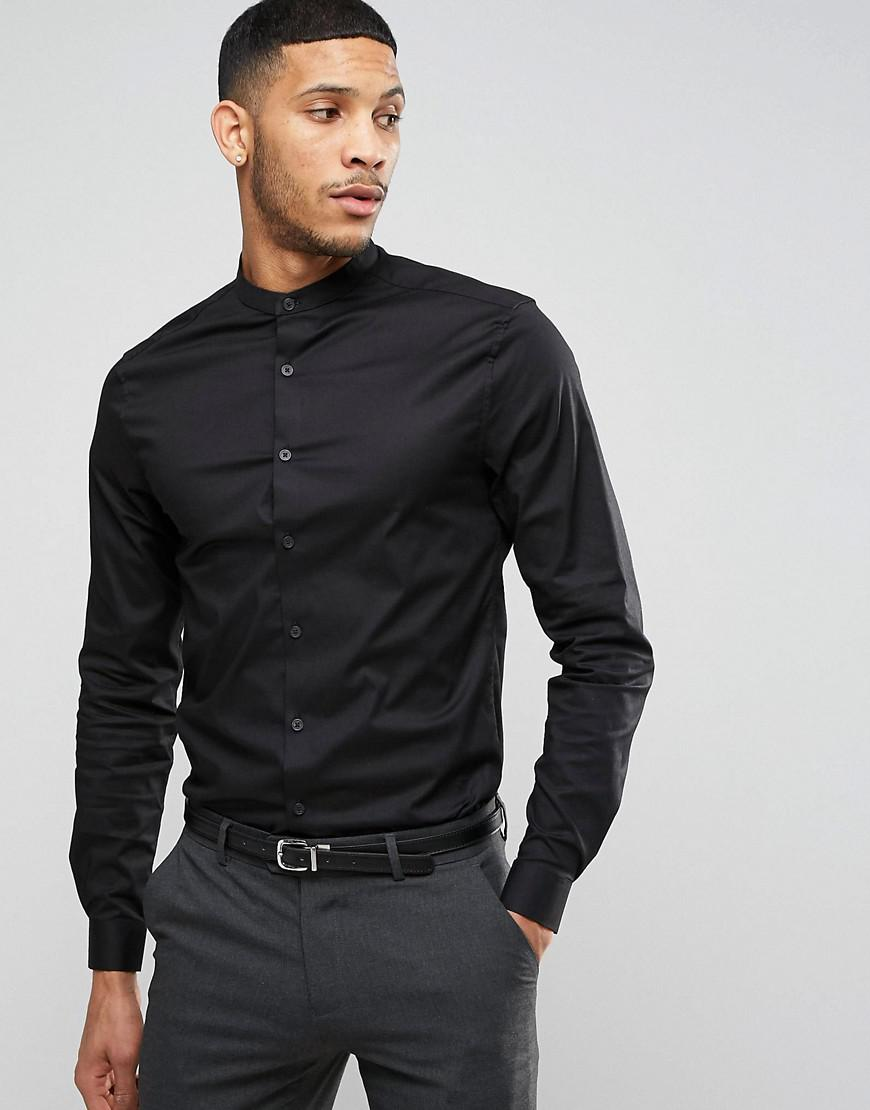teeshirt: (64, 261, 639, 905)
